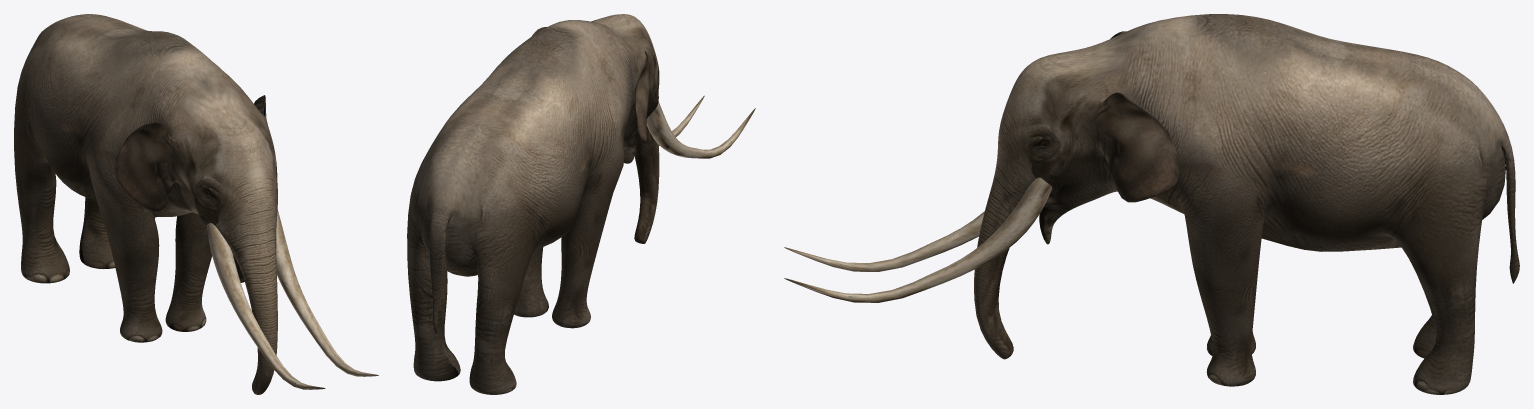
Rendered from 07_Stegodon.fbx.
3 views of the same model, side by side, from view 1: azimuth 30°, elevation 25°; view 2: azimuth 150°, elevation 25°; view 3: azimuth 270°, elevation 25° (orthographic). The views are drawn at different scales.
Parts seen in each view (by area): view 1: Cube, Cube.001; view 2: Cube, Cube.001; view 3: Cube, Cube.001.
Part boxes in pixels (left/top/right/bottom): Cube: left=14, top=14, right=277, bottom=394; Cube.001: left=206, top=210, right=378, bottom=389; Cube: left=407, top=14, right=659, bottom=394; Cube.001: left=646, top=95, right=755, bottom=158; Cube: left=974, top=14, right=1519, bottom=394; Cube.001: left=784, top=177, right=1051, bottom=302.
Bounding box in the file's own units: 452 × 882 × 1697.
